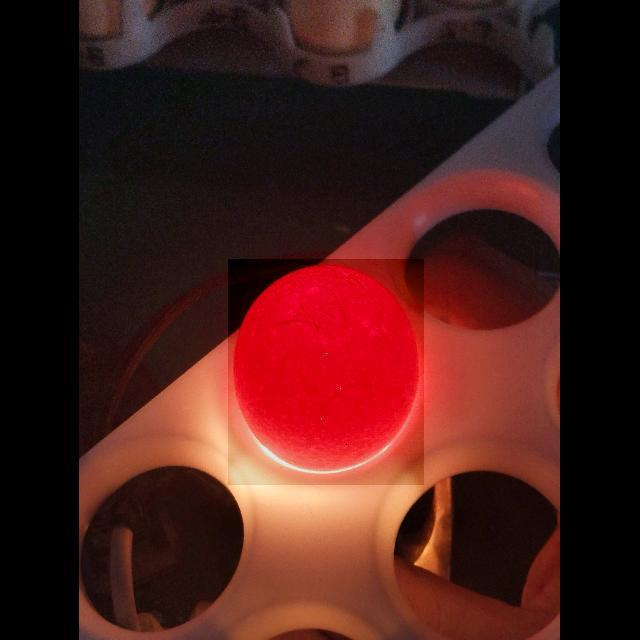Infertile: (228, 259, 424, 485)
